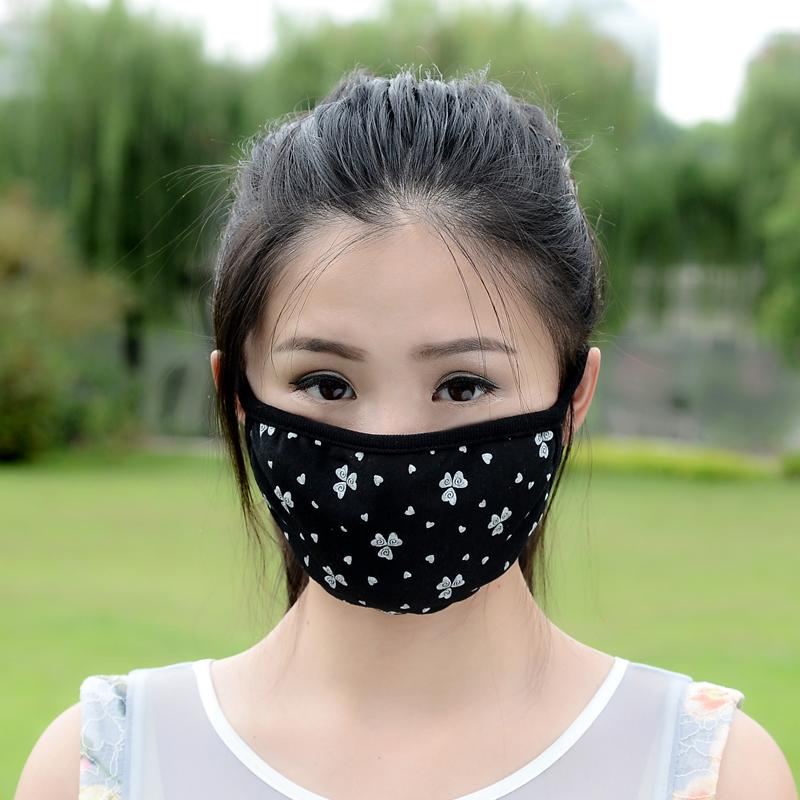OK: (256, 312, 551, 607)
